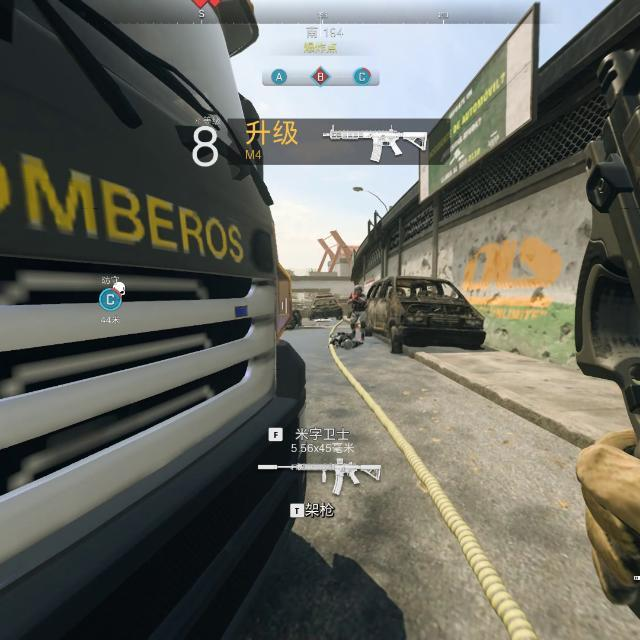MW2_body: (347, 285, 367, 342), (345, 269, 349, 270)
